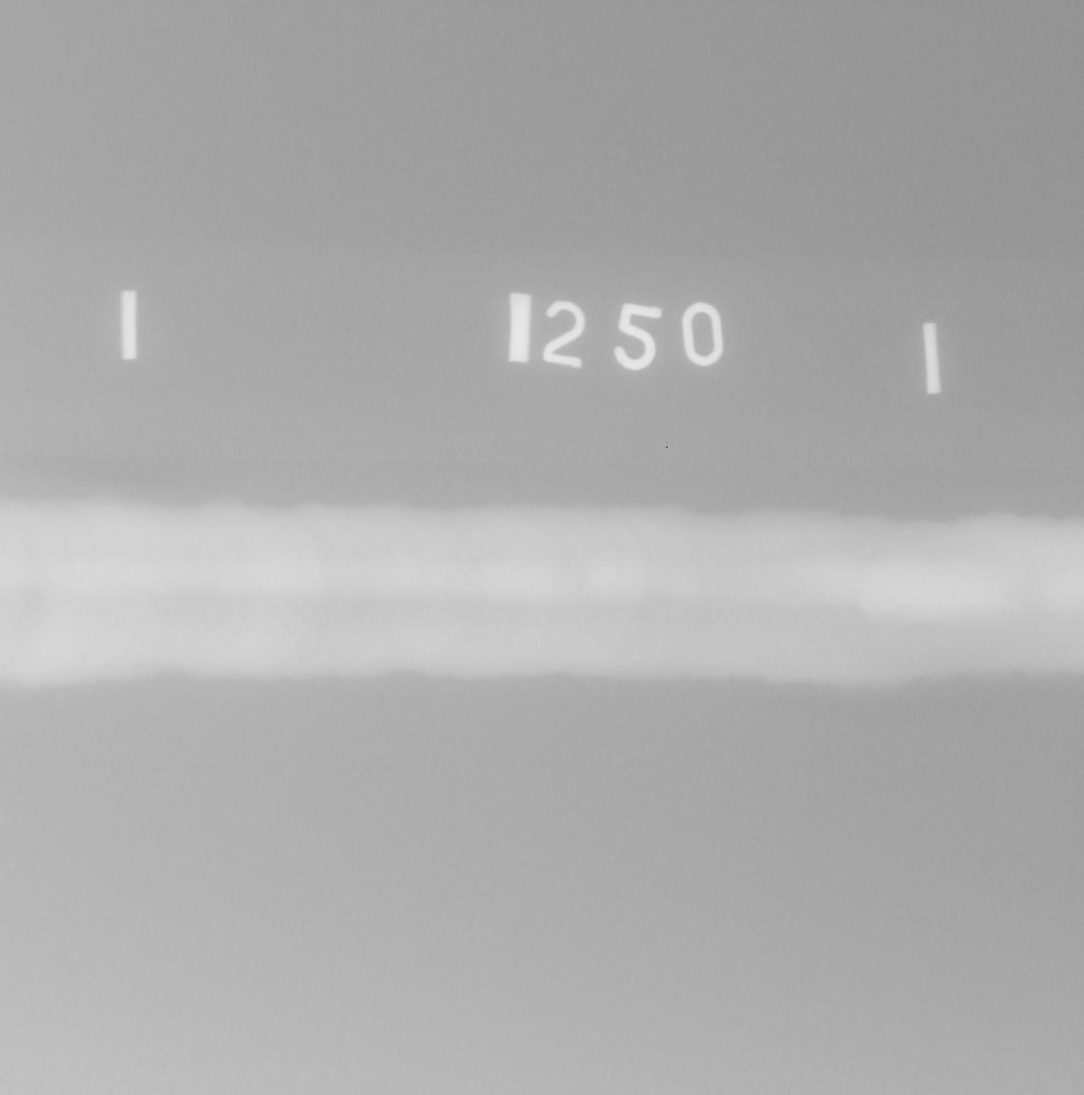Pore/Porosity: (895, 604, 905, 610)
